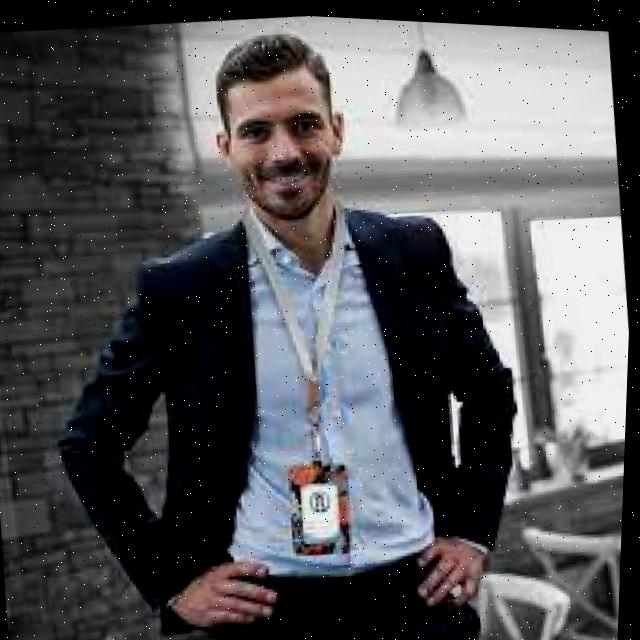id_card: (241, 220, 389, 569)
